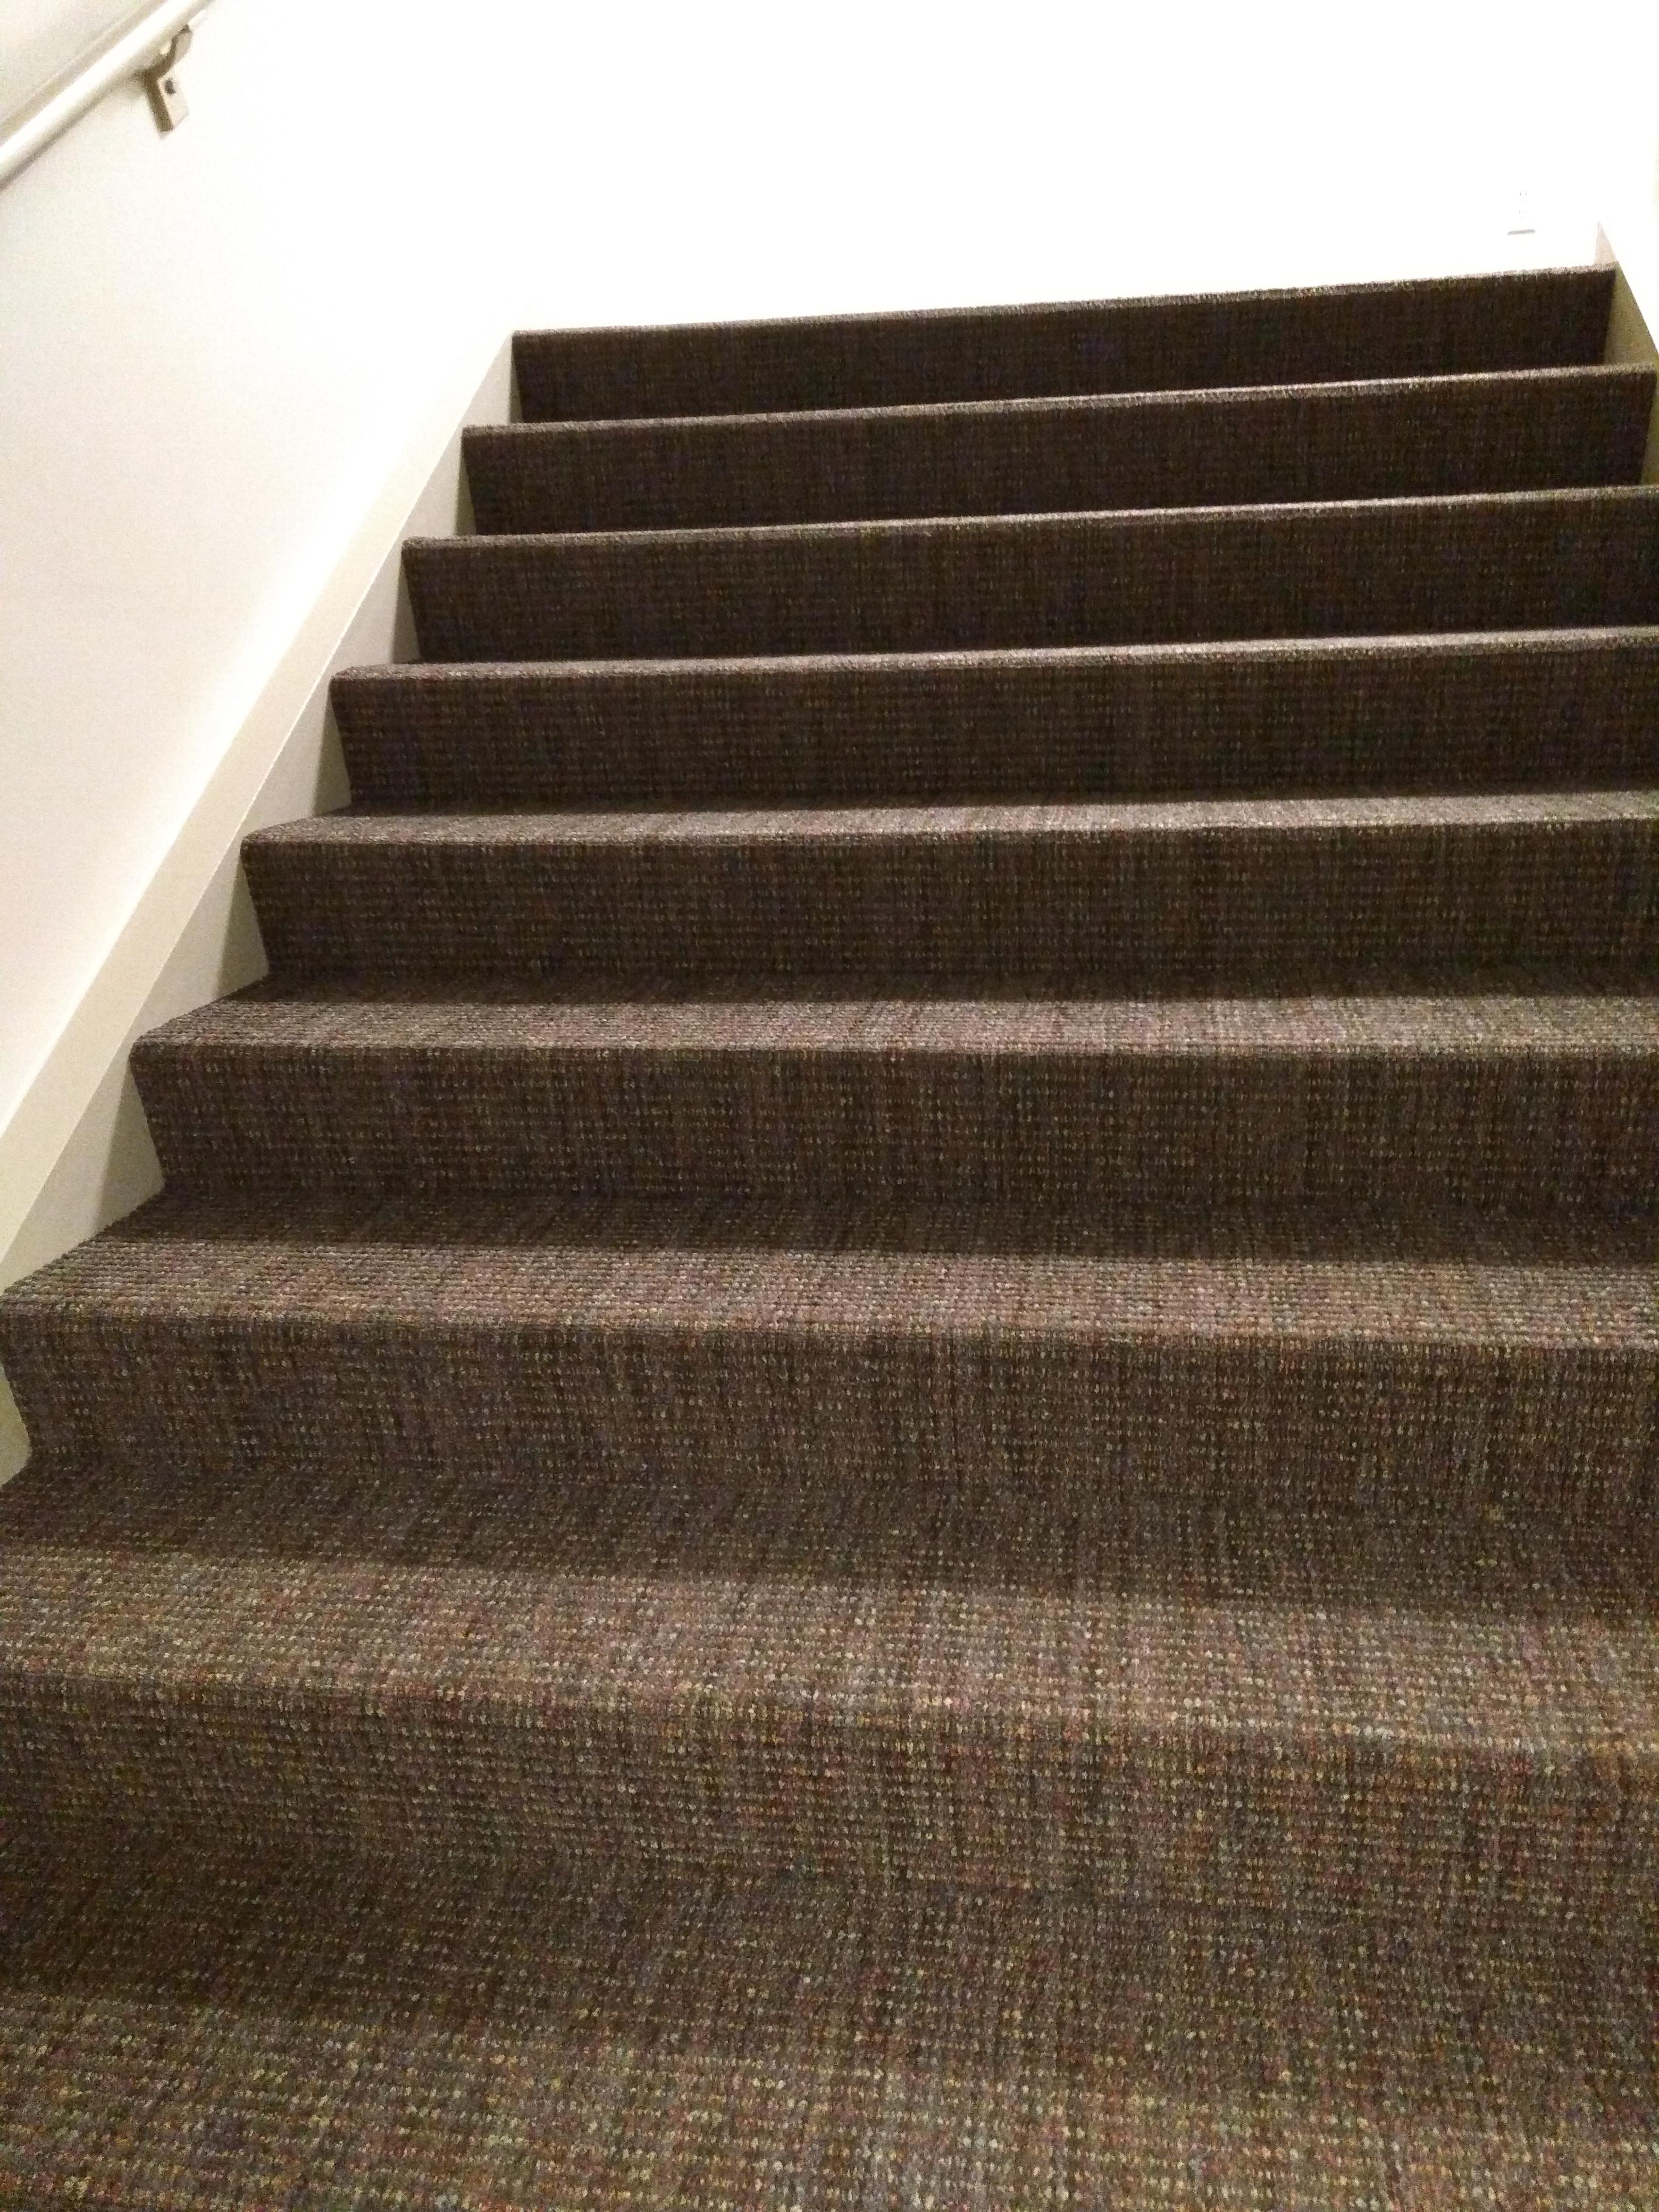stairs_up: (17, 206, 1622, 2118)
